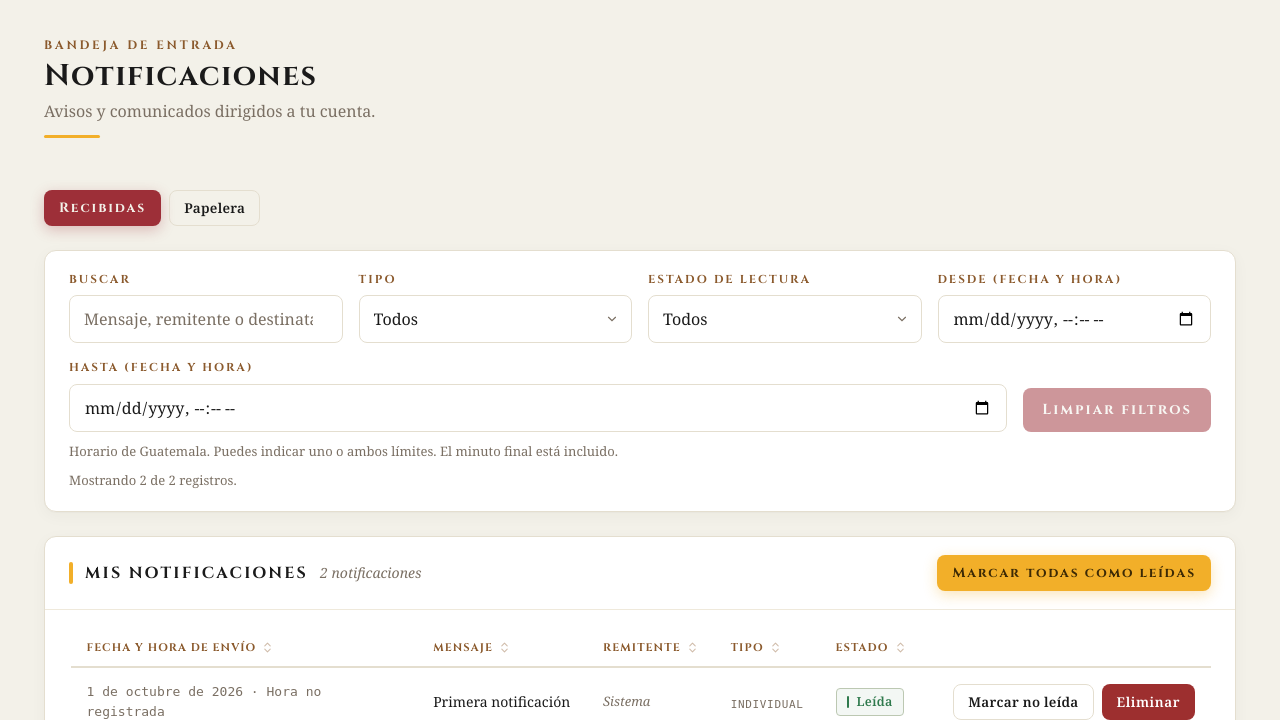
Test: búsqueda y ordenamiento de las bandejas › combina búsqueda sin acentos, tipo y lectura, y permite limpiar
The image size is (1280, 720).
Type "PRIMERA NOTIFICACION" into the search field labelled "Buscar". click: {"x": 206, "y": 319}
box: [69,295,342,343]
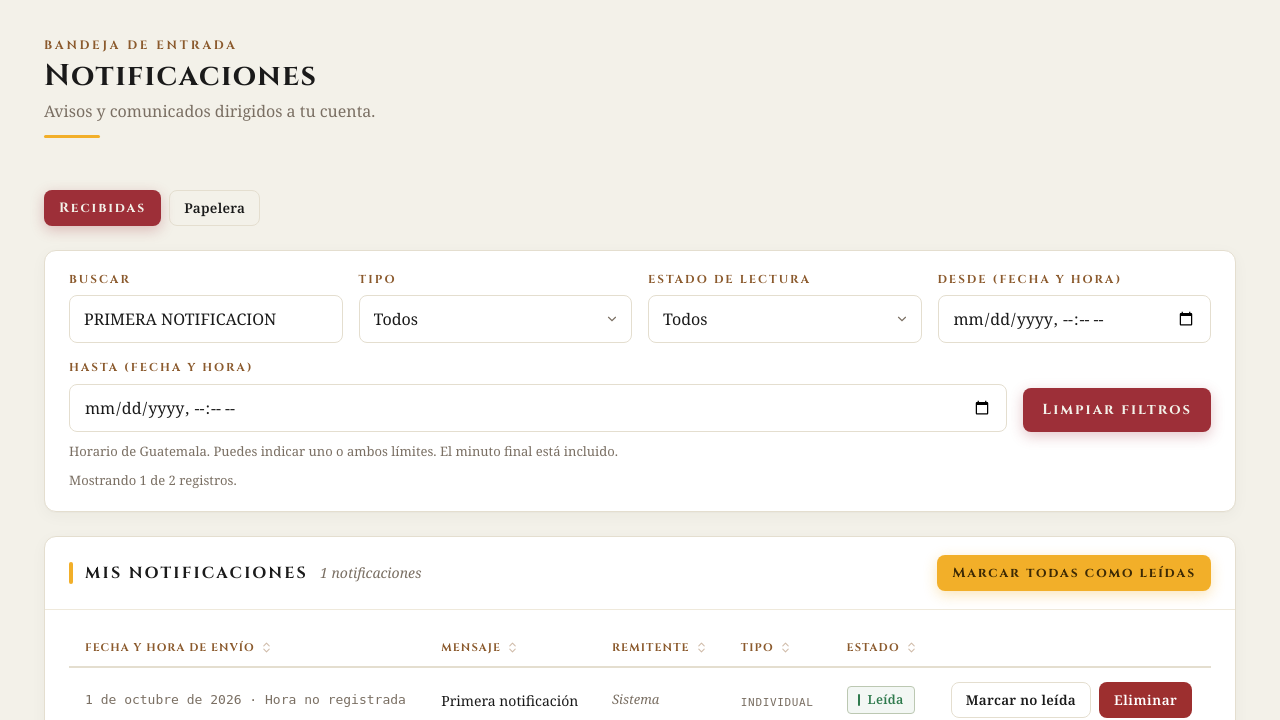
Select "Leídas" in the dropdown labelled "Estado de lectura". click: {"x": 785, "y": 319}
box: [648,295,922,343]
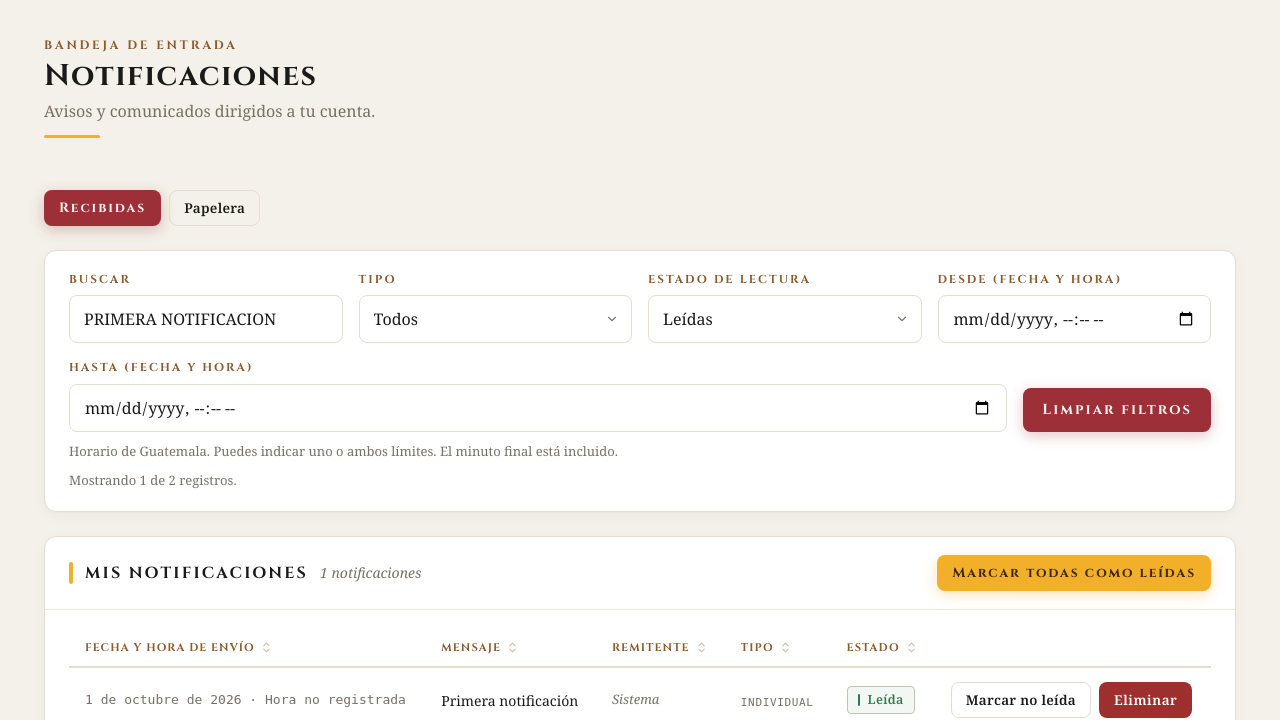
Expected: the text "Segunda notificación" is not shown
Select "Global" in the dropdown labelled "Tipo". click: {"x": 495, "y": 319}
box: [358,295,632,343]
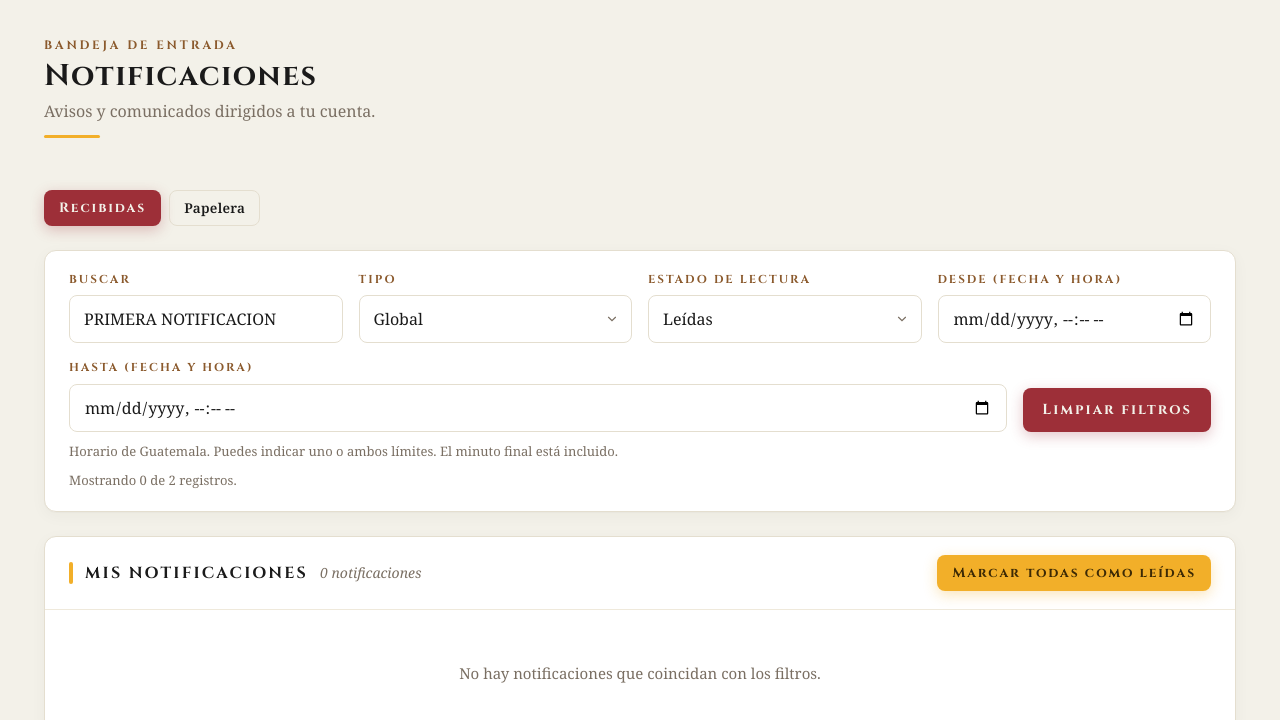
Expected: the text "No hay notificaciones que coincidan con los filtros." is shown, [459,662,821,684]
Click the button "Limpiar filtros". click: {"x": 1117, "y": 410}
box: [1023,388,1211,432]
(page scrolled)
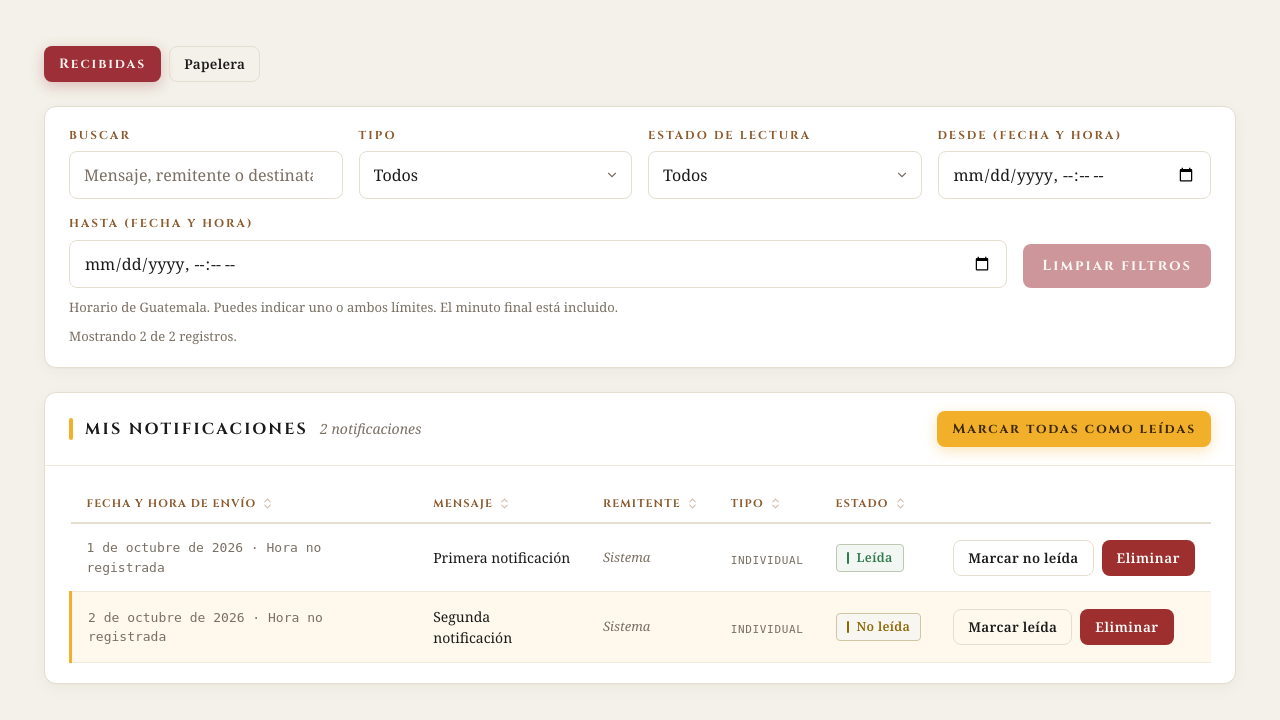
Expected: the text "Segunda notificación" is shown, [417,592,587,662]
